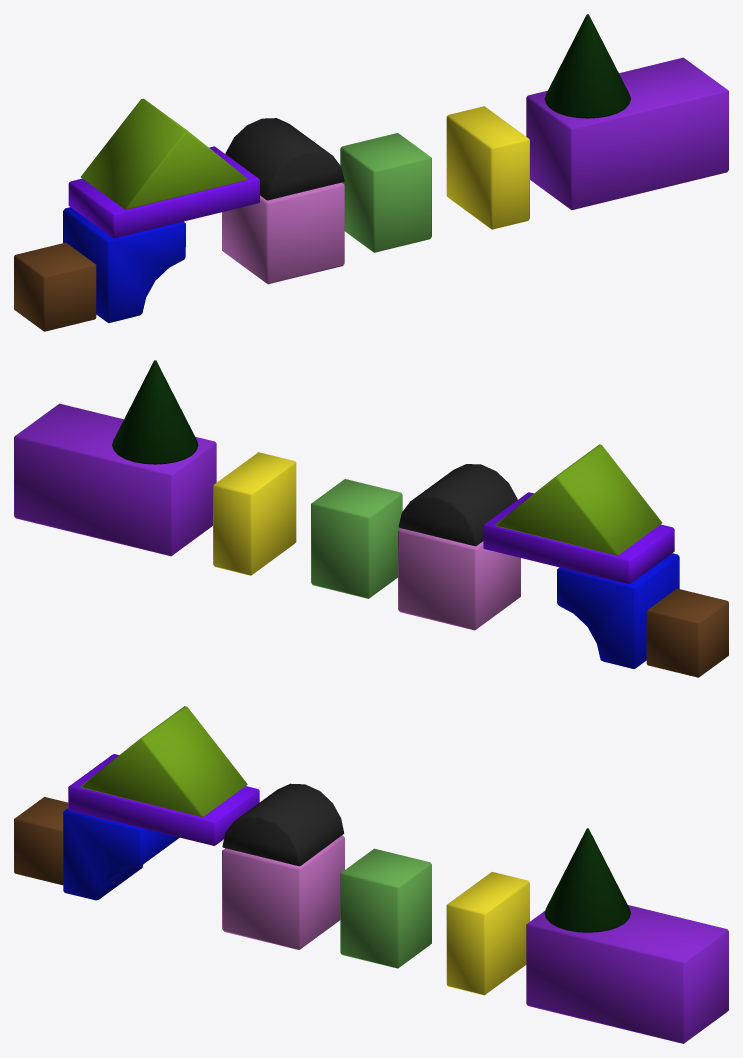
Rendered from SM_WoodenCubes01.FBX.
3 views of the same model, one above another, from view 1: azimuth 30°, elevation 25°; view 2: azimuth 150°, elevation 25°; view 3: azimuth 330°, elevation 25° (orthographic).
Visible parts, largest first — view 1: LP_Box05, LP_Triangle01, LP_Box02, LP_Box03, LP_Box04, LP_Box01, LP_miniBox01, LP_Cylinder1, LP_Box06, LP_Cone1; view 2: LP_Box05, LP_Triangle01, LP_Box02, LP_Box03, LP_Box04, LP_Box01, LP_miniBox01, LP_Cylinder1, LP_Box06, LP_Cone1; view 3: LP_Box05, LP_Box02, LP_Triangle01, LP_Box03, LP_Box04, LP_Cylinder1, LP_Box01, LP_Box06, LP_Cone1, LP_miniBox01.
Part boxes in pixels (x1,y1,x2,y2): LP_Box05: (526,57,728,210); LP_Triangle01: (81,98,247,209); LP_Box02: (222,182,344,284); LP_Box03: (340,133,431,252); LP_Box04: (446,106,529,229); LP_Box01: (63,207,185,322); LP_miniBox01: (14,242,96,331); LP_Cylinder1: (225,118,344,200); LP_Box06: (68,146,259,238); LP_Cone1: (544,14,630,118); LP_Box05: (14,403,216,556); LP_Triangle01: (495,444,662,555); LP_Box02: (398,528,520,630); LP_Box03: (311,479,402,598); LP_Box04: (213,452,296,575); LP_Box01: (557,553,679,668); LP_miniBox01: (646,588,728,677); LP_Cylinder1: (398,464,517,546); LP_Box06: (483,492,674,584); LP_Cone1: (112,360,198,464); LP_Box05: (526,905,728,1043); LP_Box02: (222,835,344,949); LP_Triangle01: (80,706,247,817); LP_Box03: (340,848,431,968); LP_Box04: (446,872,529,995); LP_Cylinder1: (222,783,344,866); LP_Box01: (63,808,179,900); LP_Box06: (68,754,259,845); LP_Cone1: (544,828,630,932); LP_miniBox01: (14,797,68,885).
Bounding box in the file's own units: 107 × 26.31 × 12.58.
